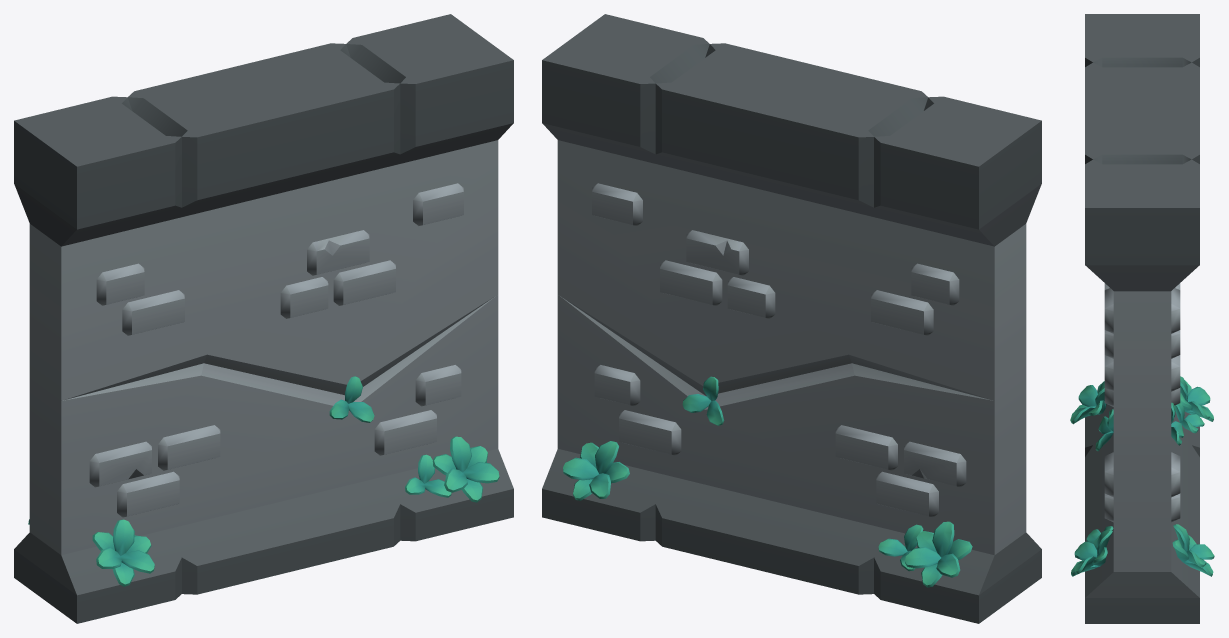
Rendered from wall_cracked.glb.
The picture shows the model from 3 angles, left to right: view 1: azimuth 30°, elevation 25°; view 2: azimuth 150°, elevation 25°; view 3: azimuth 270°, elevation 25°; orthographic projection. The views are drawn at different scales.
Visible parts, largest first — view 1: wall_cracked; view 2: wall_cracked; view 3: wall_cracked.
Boxes of the visible parts, x1=… form: wall_cracked: x1=14, y1=14, x2=513, y2=623; wall_cracked: x1=542, y1=14, x2=1041, y2=623; wall_cracked: x1=1070, y1=14, x2=1214, y2=623.
Size of the model in its own units: 4 by 4 by 1.26.
1 material, 1 textured.
